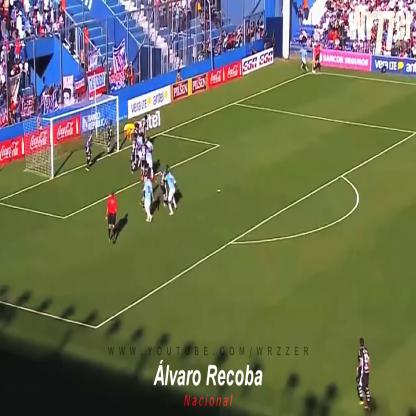corner kick: (284, 15, 331, 112)
